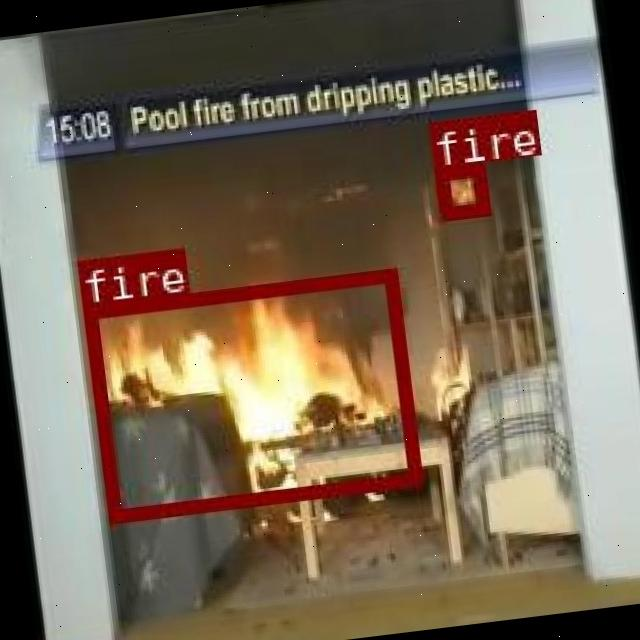fire: (81, 266, 418, 520), (431, 161, 486, 218)
